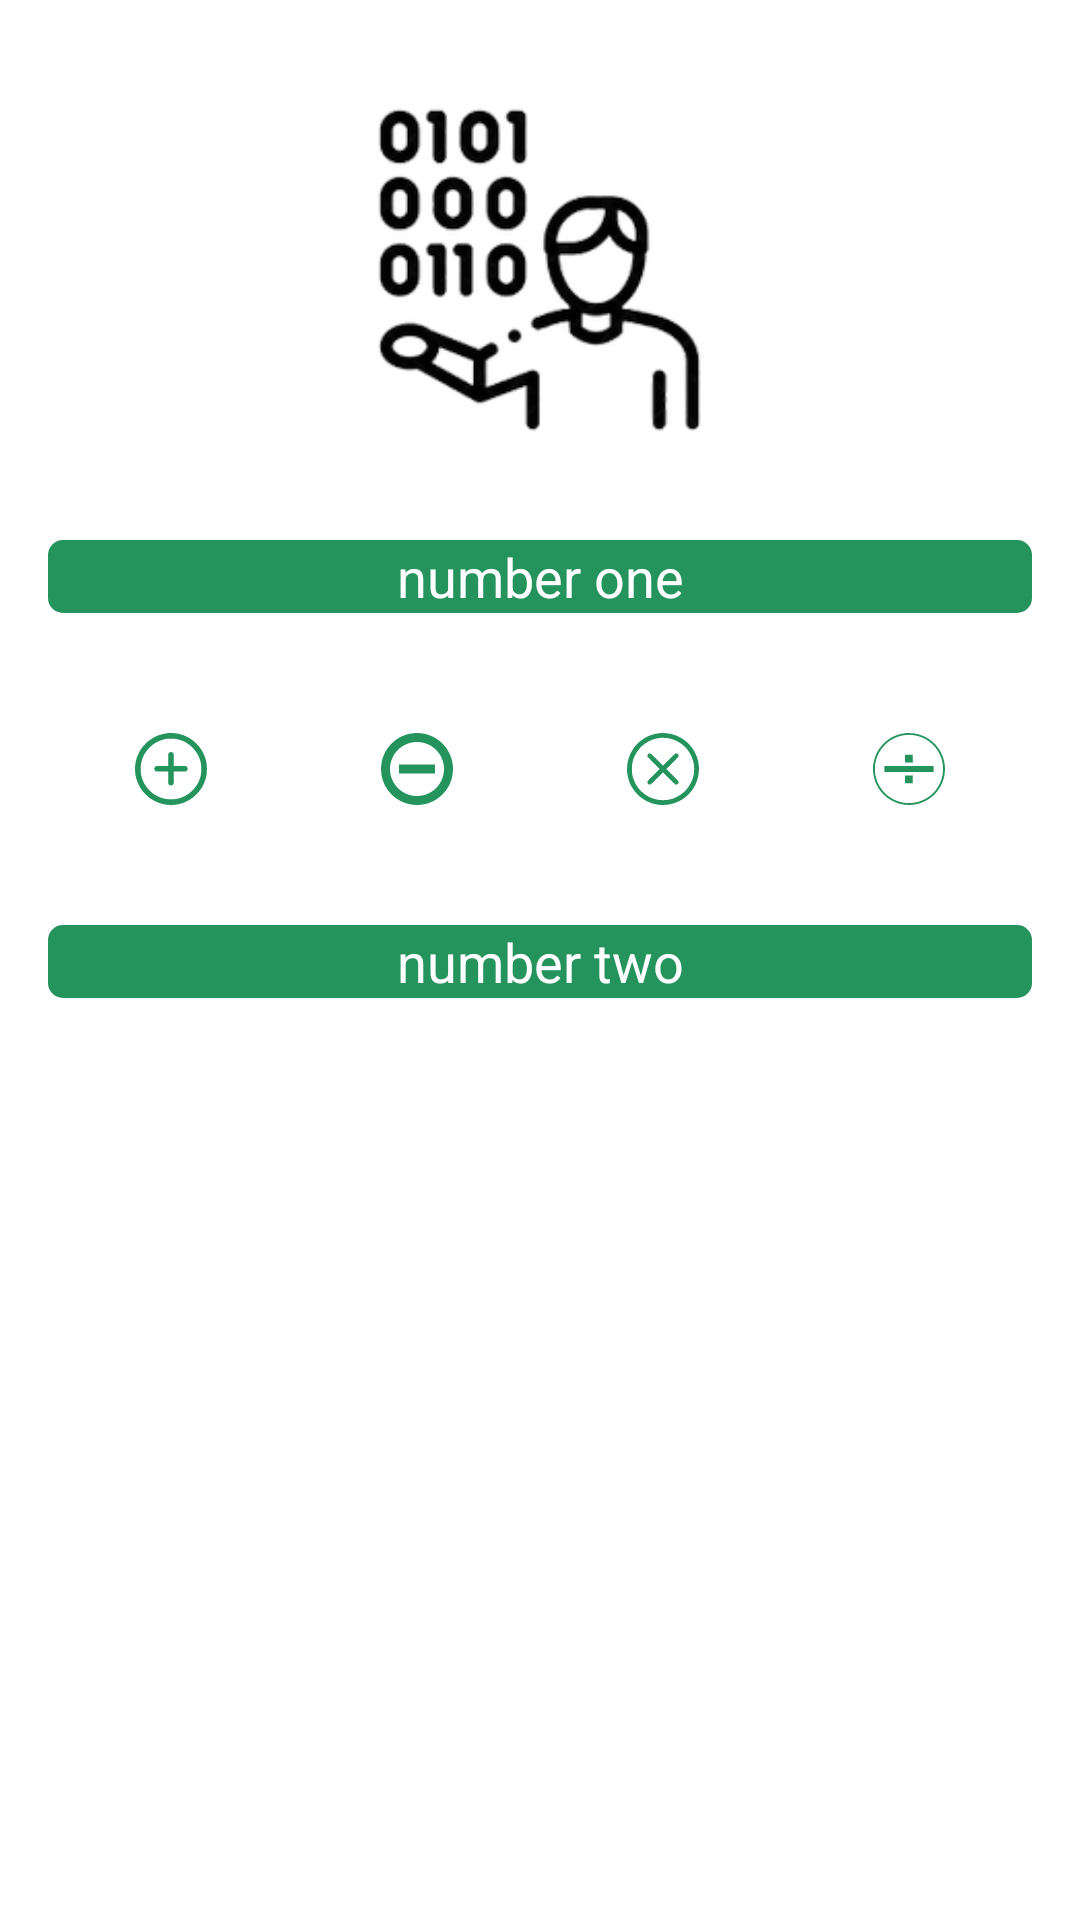

Locate icon controls on the screen. Image size 1080w x 1920h, boxes as detection(x1, y1, x2, y2).
add: detection(135, 733, 207, 805)
divide: detection(873, 733, 945, 805)
multiply: detection(627, 733, 699, 805)
subtract: detection(381, 733, 453, 805)
